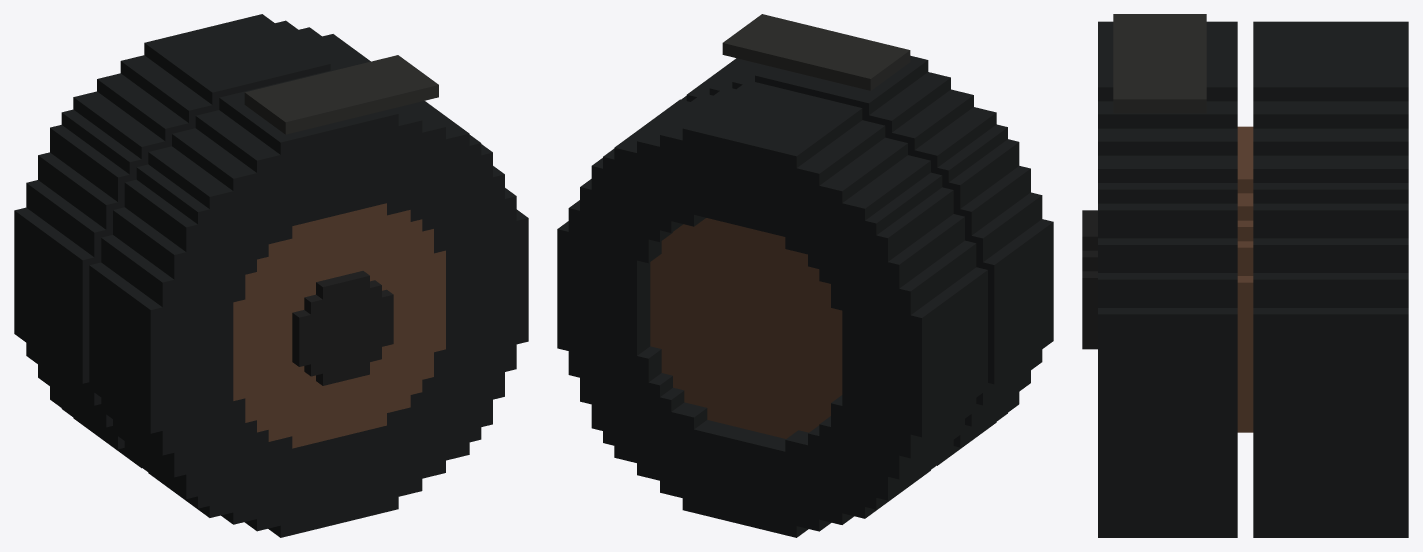
The model's file is jackknifed_lorry_cab_rear_wheel.glb.
3 views of the same model, side by side, from view 1: azimuth 30°, elevation 25°; view 2: azimuth 150°, elevation 25°; view 3: azimuth 270°, elevation 25° (orthographic). The views are drawn at different scales.
Parts seen in each view (by area): view 1: body:compound; view 2: body:compound; view 3: body:compound.
Boxes of the visible parts, bbox=[...] form: body:compound: bbox=[14, 14, 528, 537]; body:compound: bbox=[557, 14, 1053, 537]; body:compound: bbox=[1082, 14, 1408, 537].
Size of the model in its own units: 1 by 1.03 by 0.6562.
